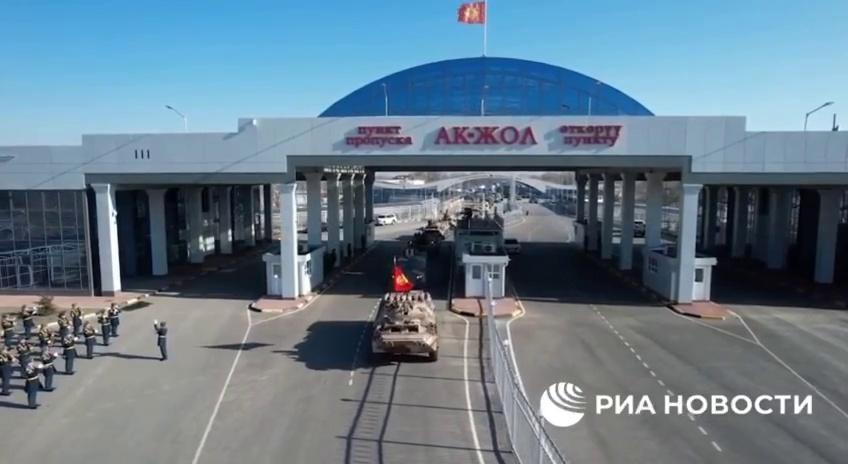armored_car: (390, 242, 432, 290)
car: (377, 210, 398, 228)
person: (24, 358, 43, 409), (16, 337, 38, 378), (61, 331, 81, 375), (0, 346, 16, 395), (42, 346, 58, 392), (153, 320, 168, 362), (21, 304, 38, 340), (83, 321, 99, 359), (1, 314, 17, 350), (98, 309, 111, 346), (70, 302, 84, 336), (108, 303, 121, 337), (38, 323, 54, 350), (57, 312, 72, 336)
tank: (372, 290, 439, 362), (406, 230, 442, 257), (421, 221, 451, 241)
